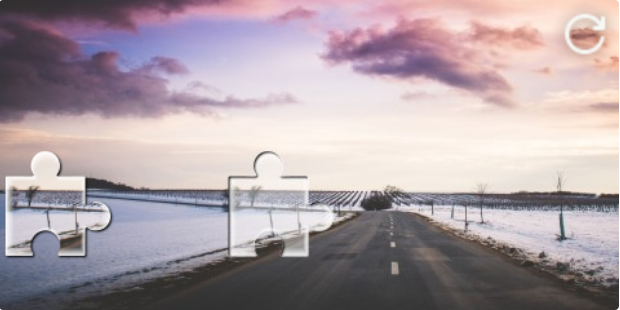target: (229, 152, 332, 258)
